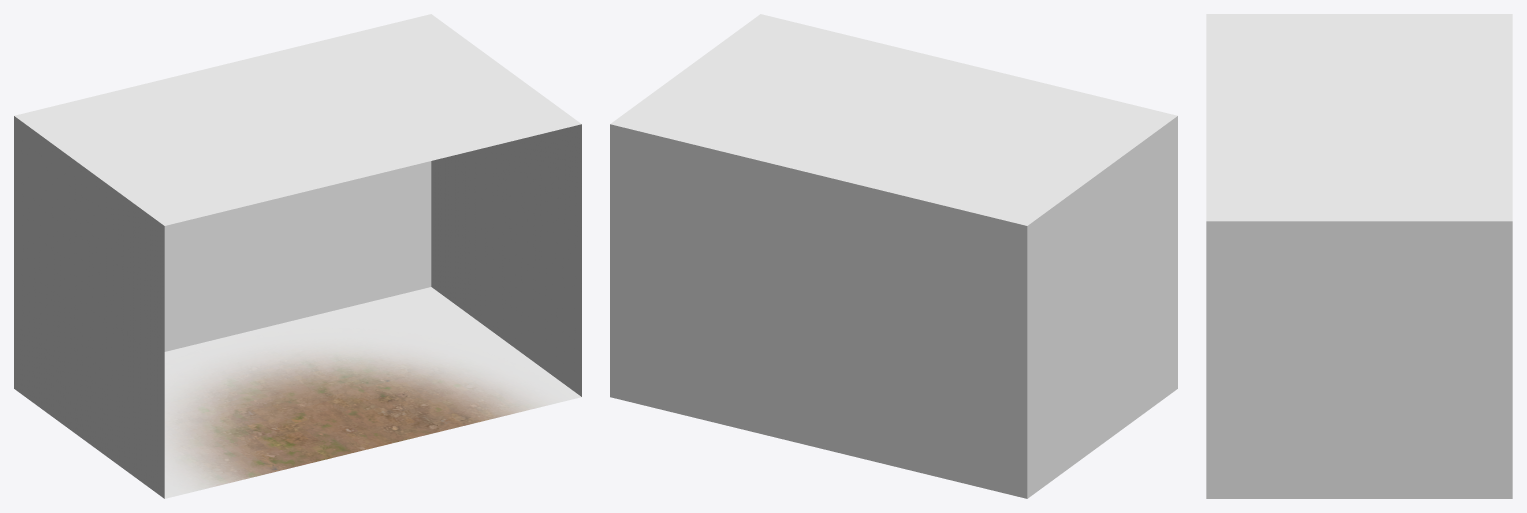
File: Outdoor_box_1.fbx
3 views of the same model, side by side, from view 1: azimuth 30°, elevation 25°; view 2: azimuth 150°, elevation 25°; view 3: azimuth 270°, elevation 25° (orthographic).
Parts seen in each view (by area): view 1: Outdoor_box_1; view 2: Outdoor_box_1; view 3: Outdoor_box_1.
Boxes of the visible parts, x1,y1,x2,y2 form: Outdoor_box_1: (14, 14, 581, 498); Outdoor_box_1: (610, 14, 1177, 498); Outdoor_box_1: (1206, 14, 1512, 498).
Bounding box in the file's own units: 4.8 × 3 × 3.
